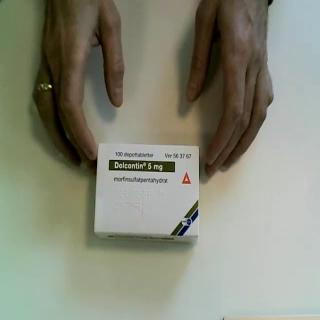dolcontin5mg: (94, 142, 202, 246)
